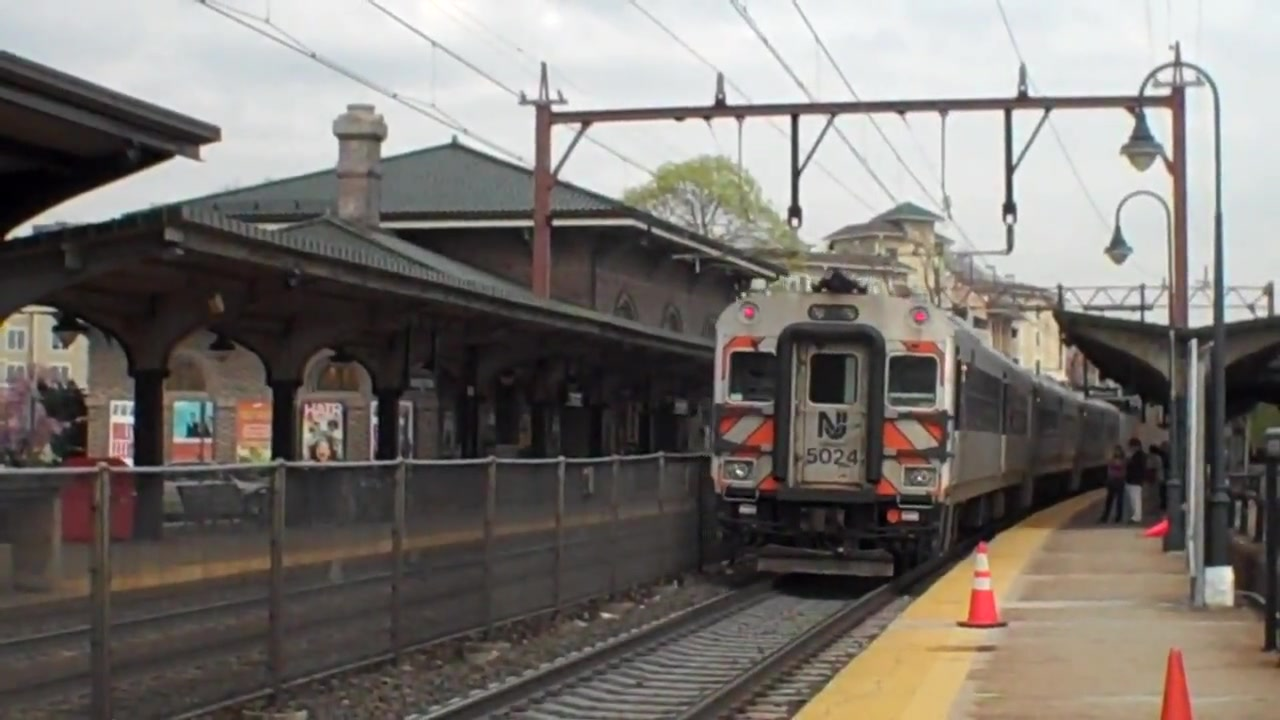train: (709, 274, 1137, 570)
